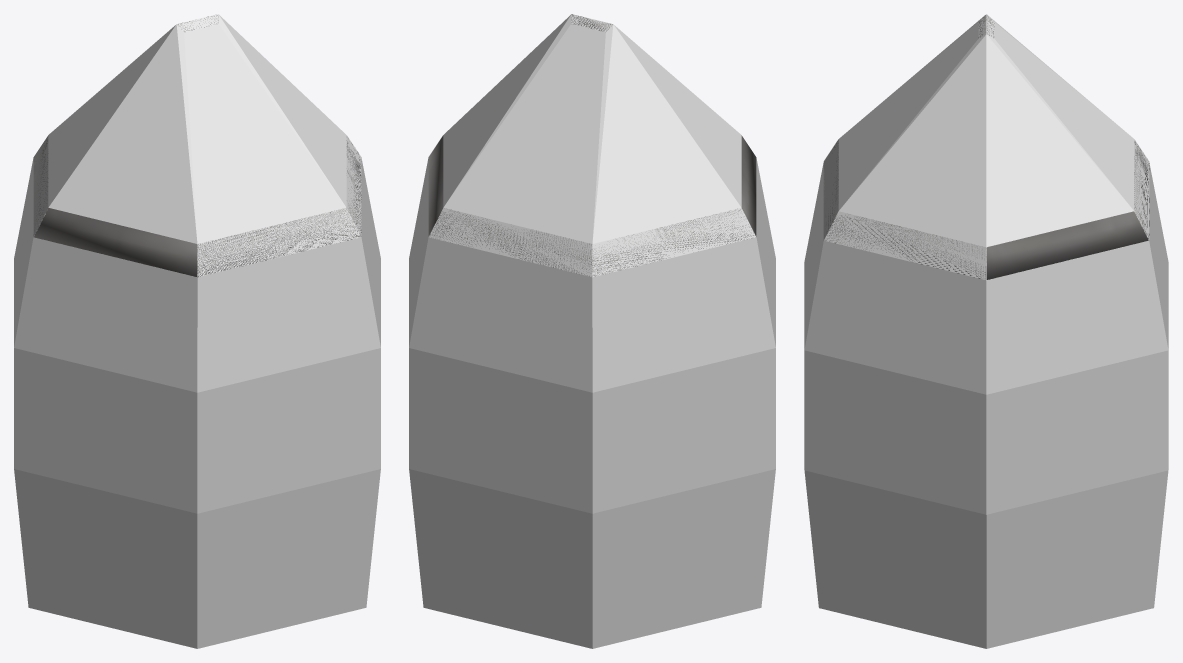
The model's file is lantern_cage.low.webp.glb.
3 renders of one model, left to right at view 1: azimuth 30°, elevation 25°; view 2: azimuth 150°, elevation 25°; view 3: azimuth 270°, elevation 25°, orthographic.
Visible parts, largest first — view 1: COL, LOD1_body; view 2: COL, LOD1_body; view 3: COL, LOD1_body.
Part boxes in pixels (x1,y1,x2,y2): COL: (14, 14, 380, 648); LOD1_body: (33, 15, 361, 277); COL: (409, 14, 775, 648); LOD1_body: (428, 14, 756, 276); COL: (804, 14, 1168, 648); LOD1_body: (823, 15, 1149, 279).
Size of the model in its own units: 0.3692 by 0.5664 by 0.3197.
2 materials, 1 textured.
